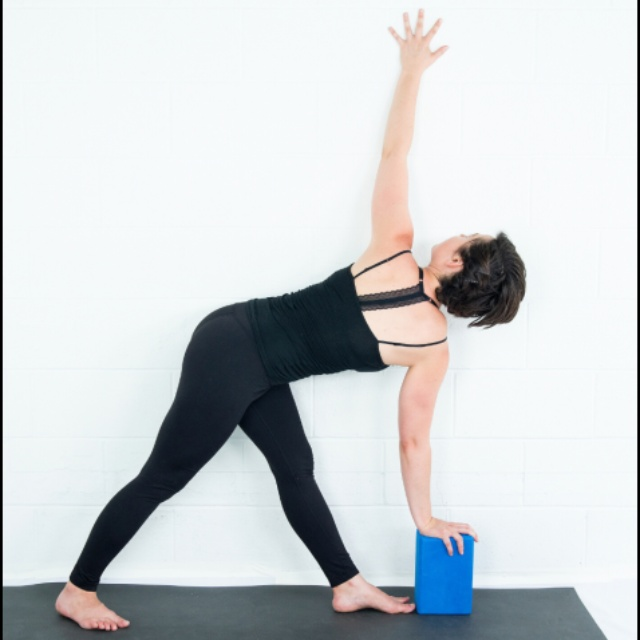Triangle_Pose: (50, 6, 533, 636)
